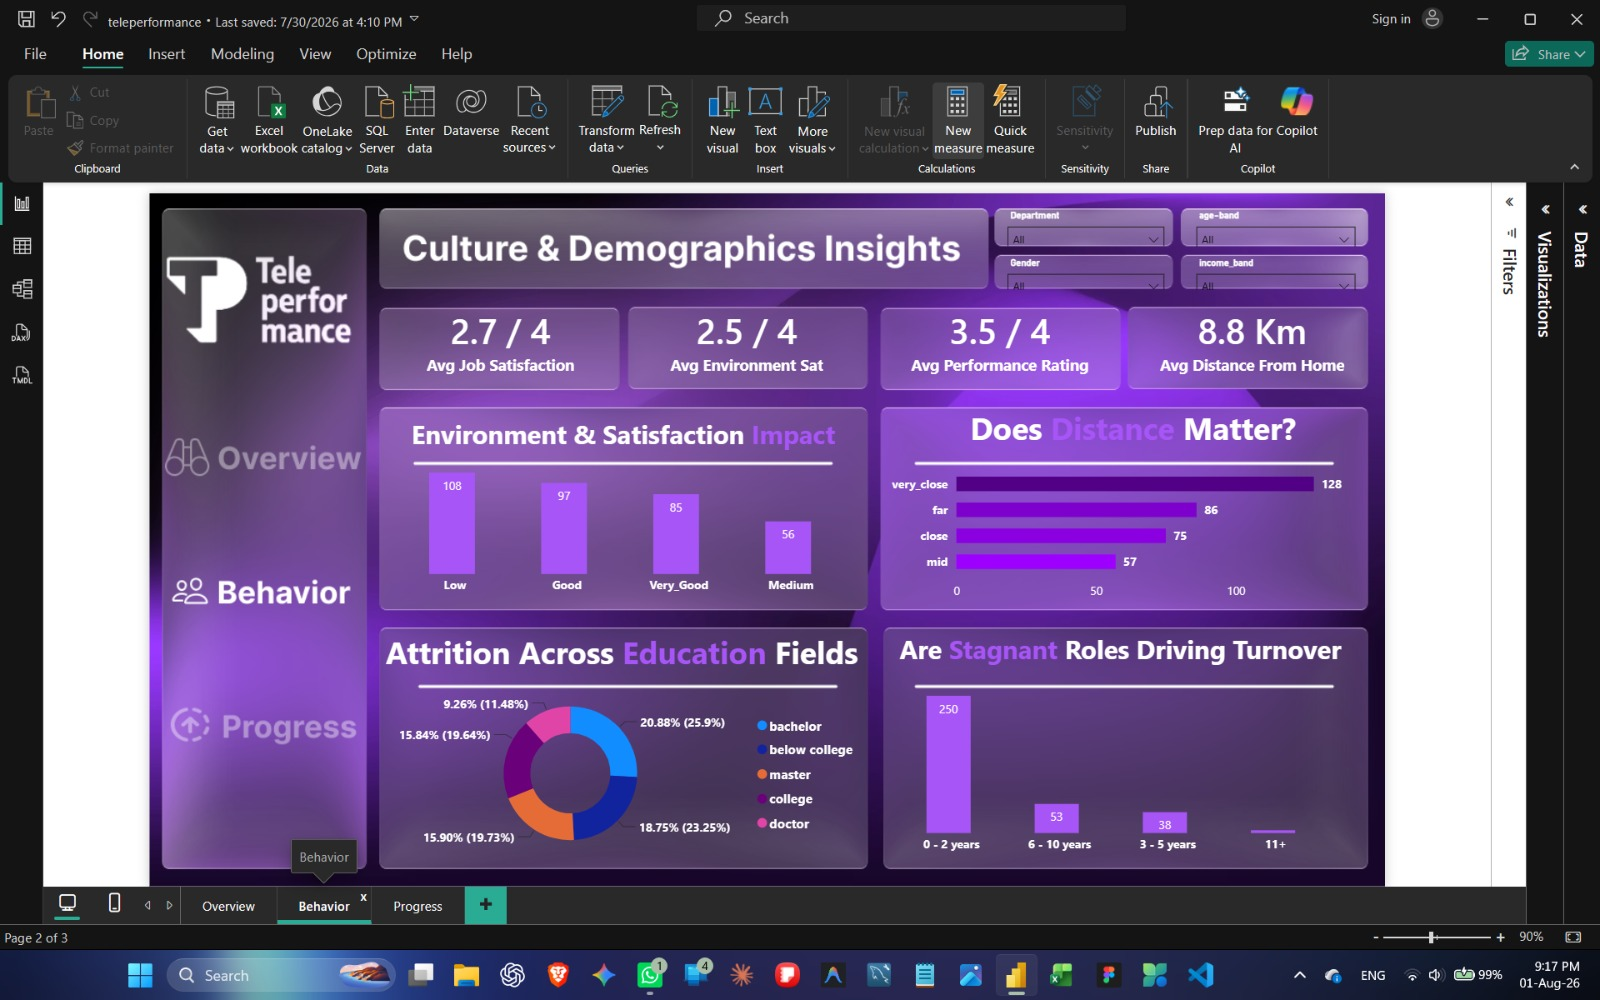

This screenshot's page, from the dashboard's own definition file:
{"tool":"powerbi","page":{"name":"Behavior","canvas":[1280,720],"ordinal":1},"visuals":[{"type":"actionButton","box":[15.7,247.1,210,55.7],"z":0},{"type":"actionButton","box":[15.6,523.3,210,55.6],"z":1000},{"type":"slicer","fields":{"Values":["jop_dim.Department"]},"box":[878.7,16.7,182.7,38],"z":2000},{"type":"slicer","fields":{"Values":["employee_dim.age-band"]},"box":[1074.4,16.2,184.4,38.8],"z":3000},{"type":"slicer","fields":{"Values":["employee_dim.Gender"]},"box":[879.1,65.5,182.7,34.5],"z":4000},{"type":"slicer","fields":{"Values":["employee_dim.income_band"]},"box":[1074.3,65.2,184.3,34.8],"z":5000},{"type":"cardVisual","fields":{"Data":["mesures.Avg Job Satisfaction"]},"box":[238.5,100,250,105.4],"z":6000},{"type":"cardVisual","fields":{"Data":["mesures.Avg Environment Sat"]},"box":[494.2,100,249.2,105],"z":7000},{"type":"cardVisual","fields":{"Data":["mesures.Avg Performance Rating"]},"box":[755,100,251.7,105.8],"z":8000},{"type":"cardVisual","fields":{"Data":["mesures.Avg Distance From Home"]},"box":[1013.3,100,258.3,105.8],"z":9000},{"type":"clusteredColumnChart","fields":{"Category":["emp_survey.EnvironmentSatisfaction"],"Y":["mesures.Attrition Count"]},"box":[238.6,275.7,504.3,150],"z":10000},{"type":"textbox","box":[267.1,227.1,504.3,97.1],"z":11000},{"type":"barChart","fields":{"Category":["employee_dim.distance_band"],"Y":["mesures.Attrition Count"]},"box":[762.9,270,487.1,161.4],"z":12000},{"type":"textbox","box":[778.6,217.1,480,52.9],"z":13000},{"type":"donutChart","fields":{"Category":["employee_dim.Education"],"Y":["mesures.Attrition Rate %"]},"box":[238.6,507.1,504.3,188.6],"z":14000},{"type":"textbox","box":[240,448.6,515.7,58.6],"z":15000},{"type":"clusteredColumnChart","fields":{"Category":["employee_dim.YearsInCurrentRole_band"],"Y":["mesures.Attrition Count"]},"box":[755.7,507.1,487.1,187.1],"z":16000},{"type":"textbox","box":[771.7,448.3,480,60],"z":17000}]}

Visuals, with their boxes on the page's 1280x720 design canvas (x1, y1, x2, y2). These are canvas units, not pixel positions in the 1600x1000 screenshot, which may show the page scaled, cropped or inside an application window:
actionButton: [16, 247, 226, 303]
actionButton: [16, 523, 226, 579]
slicer - jop_dim.Department: [879, 17, 1061, 55]
slicer - employee_dim.age-band: [1074, 16, 1259, 55]
slicer - employee_dim.Gender: [879, 66, 1062, 100]
slicer - employee_dim.income_band: [1074, 65, 1259, 100]
cardVisual - mesures.Avg Job Satisfaction: [238, 100, 488, 205]
cardVisual - mesures.Avg Environment Sat: [494, 100, 743, 205]
cardVisual - mesures.Avg Performance Rating: [755, 100, 1007, 206]
cardVisual - mesures.Avg Distance From Home: [1013, 100, 1272, 206]
clusteredColumnChart - emp_survey.EnvironmentSatisfaction x mesures.Attrition Count: [239, 276, 743, 426]
textbox: [267, 227, 771, 324]
barChart - employee_dim.distance_band x mesures.Attrition Count: [763, 270, 1250, 431]
textbox: [779, 217, 1259, 270]
donutChart - employee_dim.Education x mesures.Attrition Rate %: [239, 507, 743, 696]
textbox: [240, 449, 756, 507]
clusteredColumnChart - employee_dim.YearsInCurrentRole_band x mesures.Attrition Count: [756, 507, 1243, 694]
textbox: [772, 448, 1252, 508]
